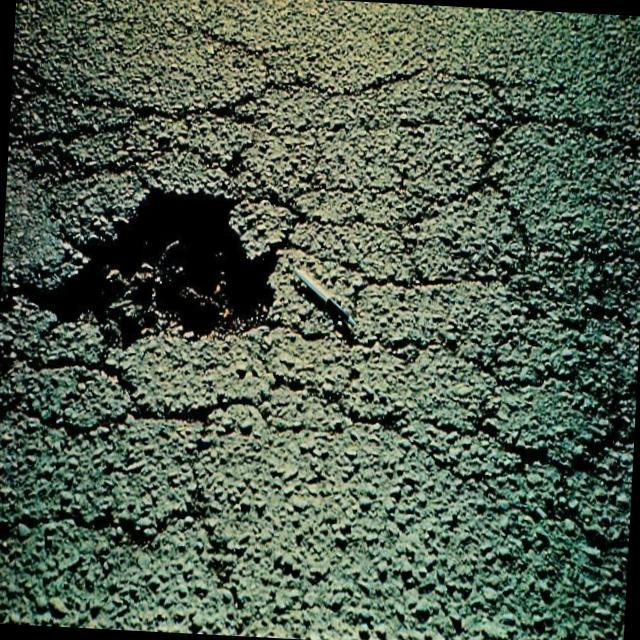Pothole: (44, 116, 300, 383)
